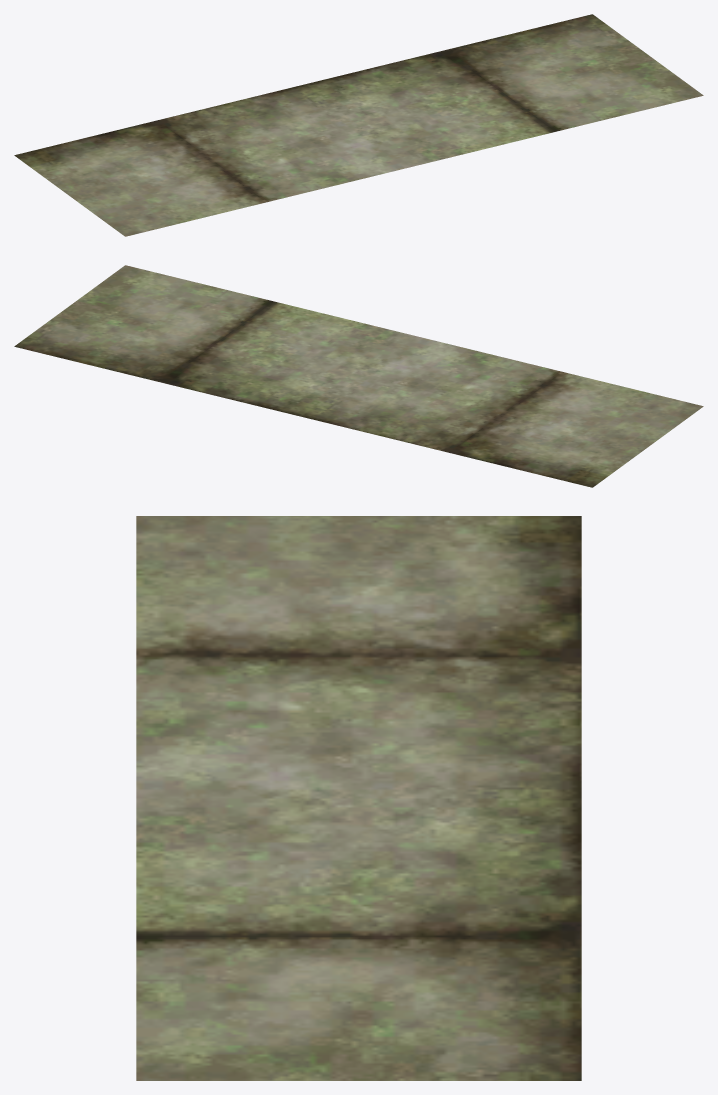
Rendered from OVERHILL_A_01_LINE175.fbx.
3 renders of one model, top to bottom at view 1: azimuth 30°, elevation 25°; view 2: azimuth 150°, elevation 25°; view 3: azimuth 270°, elevation 25°, orthographic. The views are drawn at different scales.
Visible parts, largest first — view 1: OVERHILL_A_01_LINE175; view 2: OVERHILL_A_01_LINE175; view 3: OVERHILL_A_01_LINE175.
Boxes of the visible parts, <box> form: OVERHILL_A_01_LINE175: <box>14,14,703,236</box>; OVERHILL_A_01_LINE175: <box>14,265,703,487</box>; OVERHILL_A_01_LINE175: <box>136,516,581,1080</box>.
Size of the model in its own units: 30000 by 0.00163 by 10000.
Materials: 1 (1 with a texture image).
